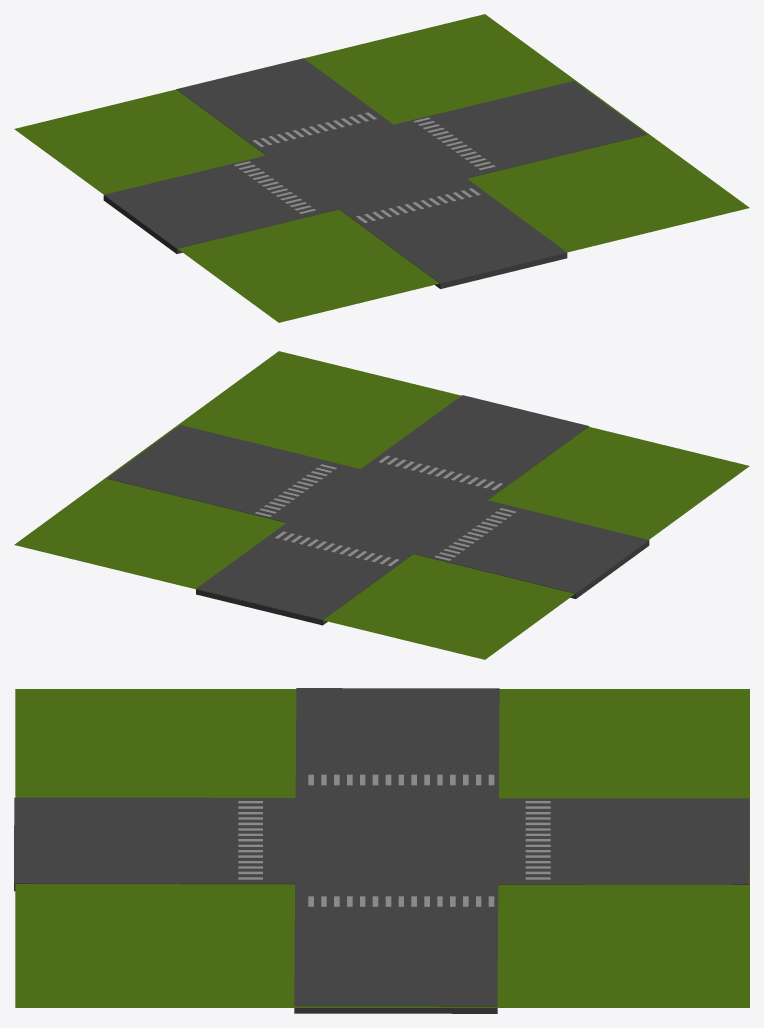
File: street2_floor.fbx
3 renders of one model, top to bottom at view 1: azimuth 30°, elevation 25°; view 2: azimuth 150°, elevation 25°; view 3: azimuth 270°, elevation 25°, orthographic. The views are drawn at different scales.
Visible parts, largest first — view 1: Plane001, Line002, Object010; view 2: Plane001, Line002, Object010; view 3: Plane001, Line002, Object010.
Boxes of the visible parts, x1=… form: Plane001: x1=14, y1=14, x2=749, y2=322; Line002: x1=103, y1=58, x2=647, y2=288; Object010: x1=234, y1=112, x2=495, y2=222; Plane001: x1=14, y1=351, x2=749, y2=659; Line002: x1=107, y1=395, x2=649, y2=625; Object010: x1=255, y1=455, x2=516, y2=566; Plane001: x1=15, y1=689, x2=749, y2=1007; Line002: x1=14, y1=688, x2=749, y2=1013; Object010: x1=238, y1=774, x2=550, y2=906.
Bounding box in the file's own units: 38.13 × 0.4414 × 37.15.
